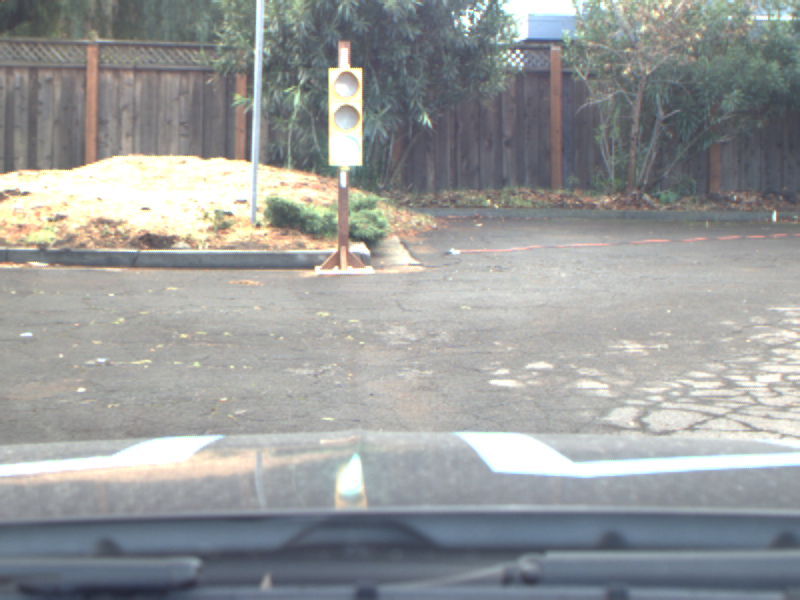Green: (328, 68, 362, 166)
